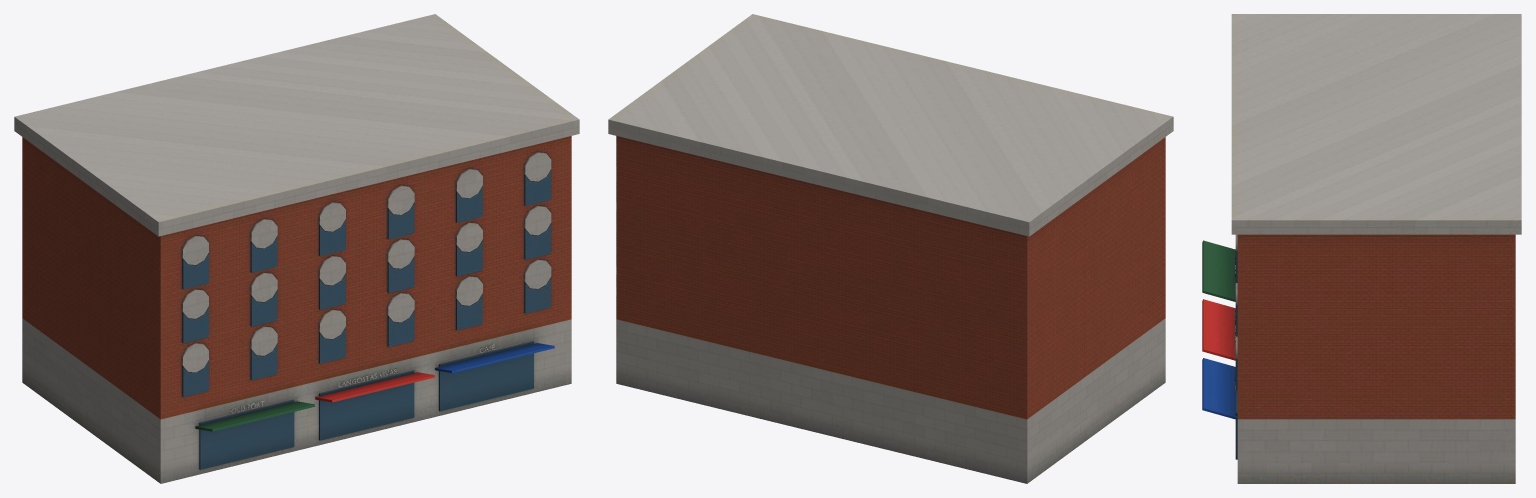
The model's file is almacen_old_port.glb.
The picture shows the model from 3 angles, left to right: view 1: azimuth 30°, elevation 25°; view 2: azimuth 150°, elevation 25°; view 3: azimuth 270°, elevation 25°; orthographic projection.
Visible parts, largest first — view 1: almacen_old_port; view 2: almacen_old_port; view 3: almacen_old_port.
Part boxes in pixels (bbox=[...]): almacen_old_port: bbox=[14, 14, 579, 483]; almacen_old_port: bbox=[608, 14, 1173, 483]; almacen_old_port: bbox=[1202, 14, 1521, 483].
Size of the model in its own units: 24.6 by 14.8 by 16.08.
Materials: 1 (1 with a texture image).
